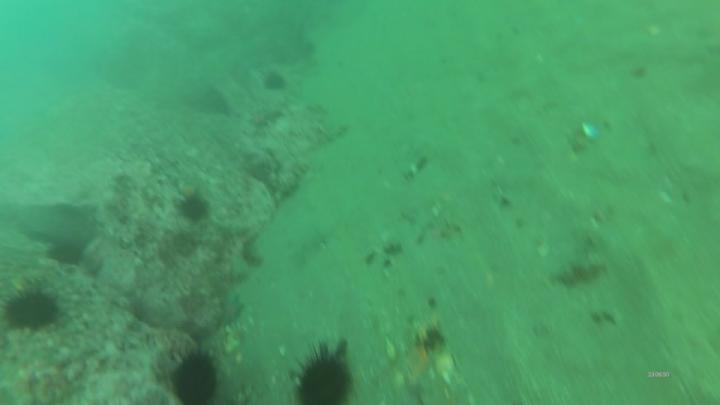echinus: (162, 342, 227, 405), (294, 346, 352, 405), (3, 288, 58, 333), (46, 237, 83, 267), (178, 198, 212, 225), (265, 68, 287, 94)
starfish: (219, 293, 249, 330)
